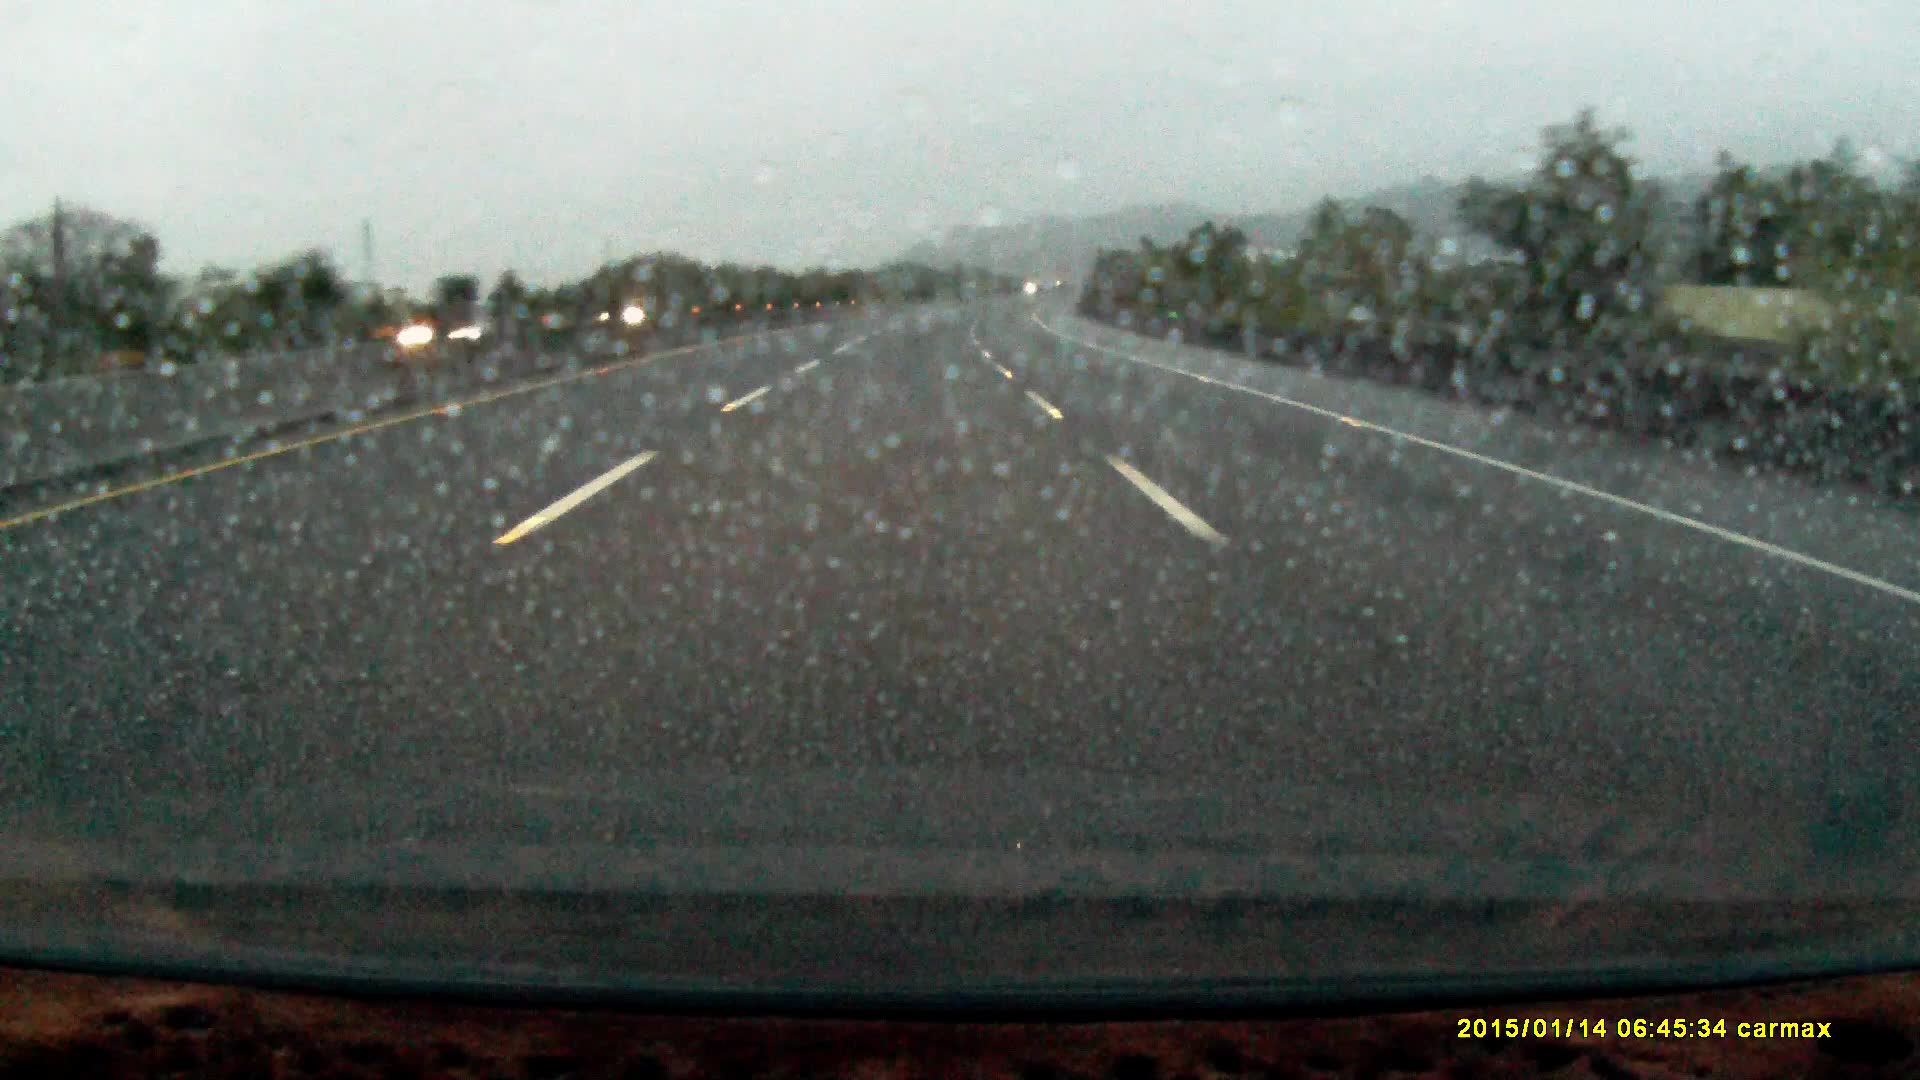vehicle: (398, 299, 549, 344), (597, 295, 673, 327)
